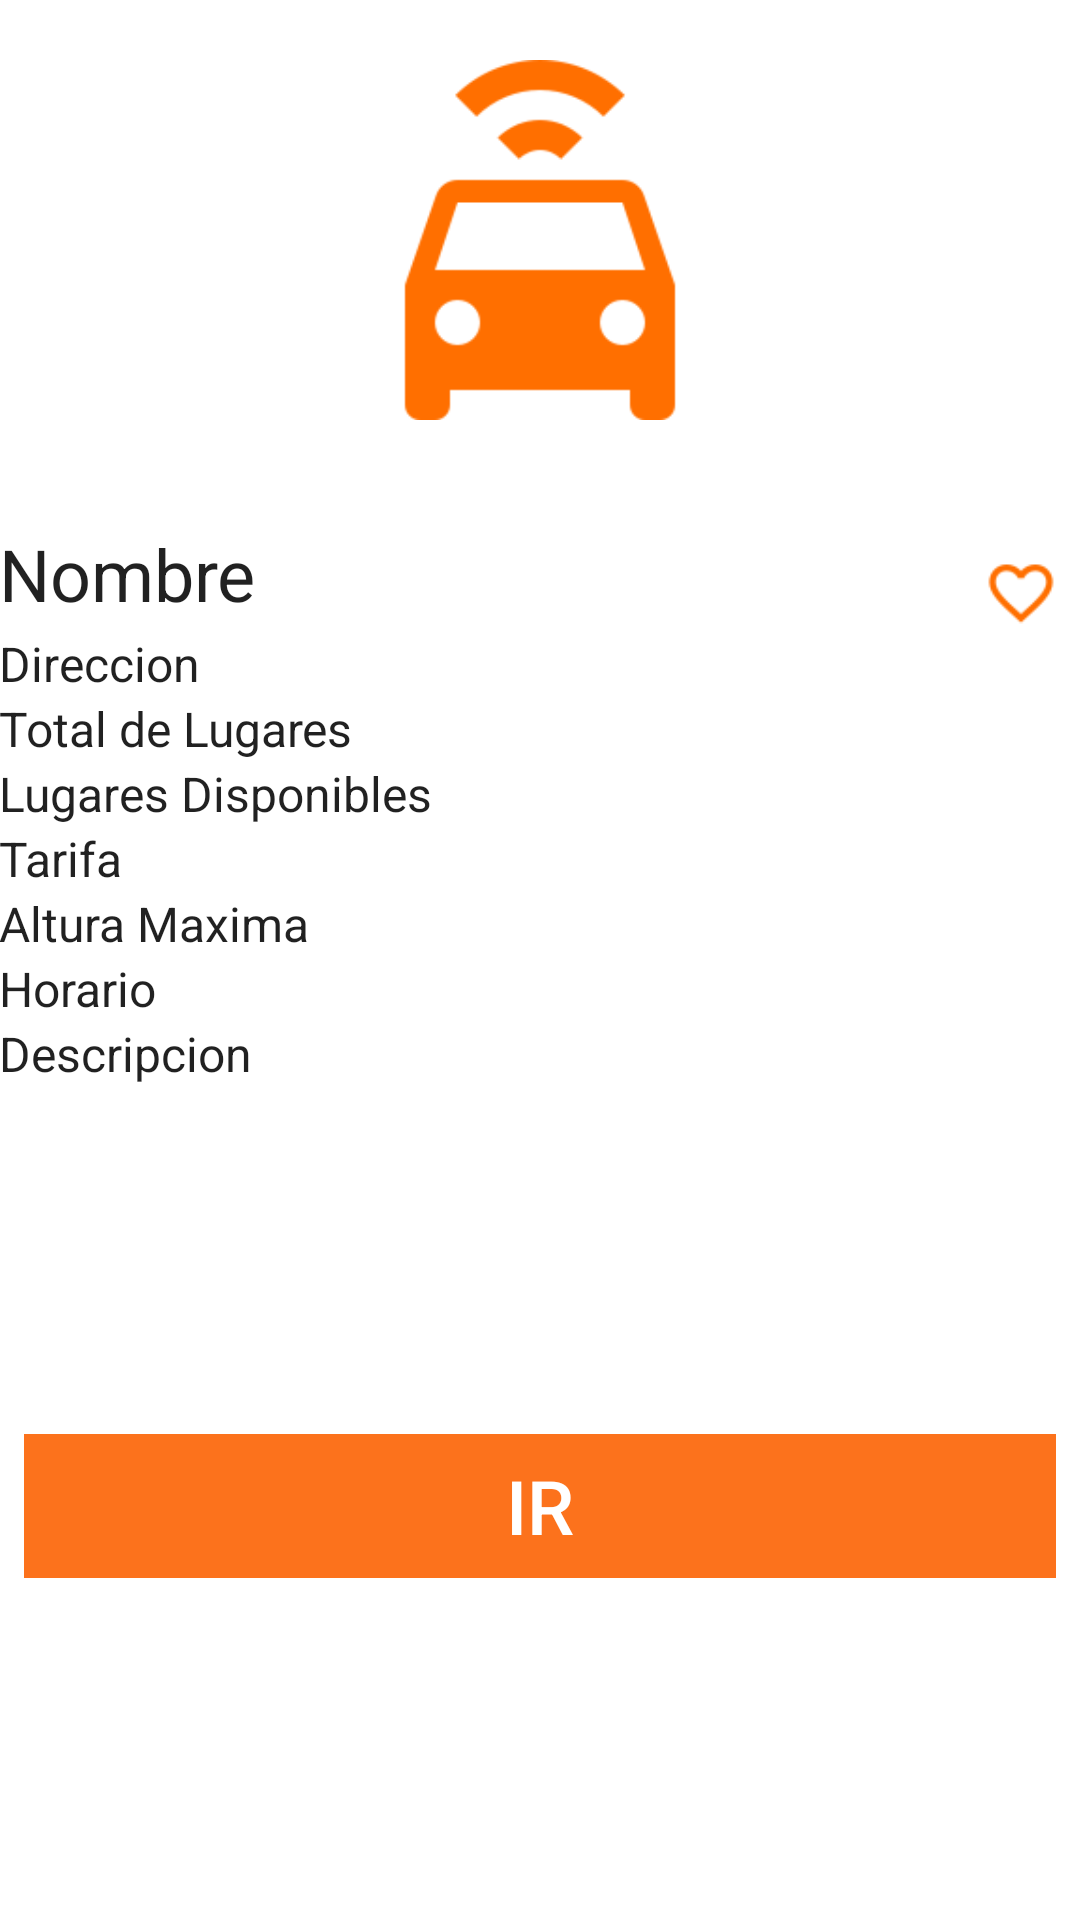

Named icons in this screenshot (1080px x 1920px) and their centers, [x,y]:
no fav dos: [1021,593]
